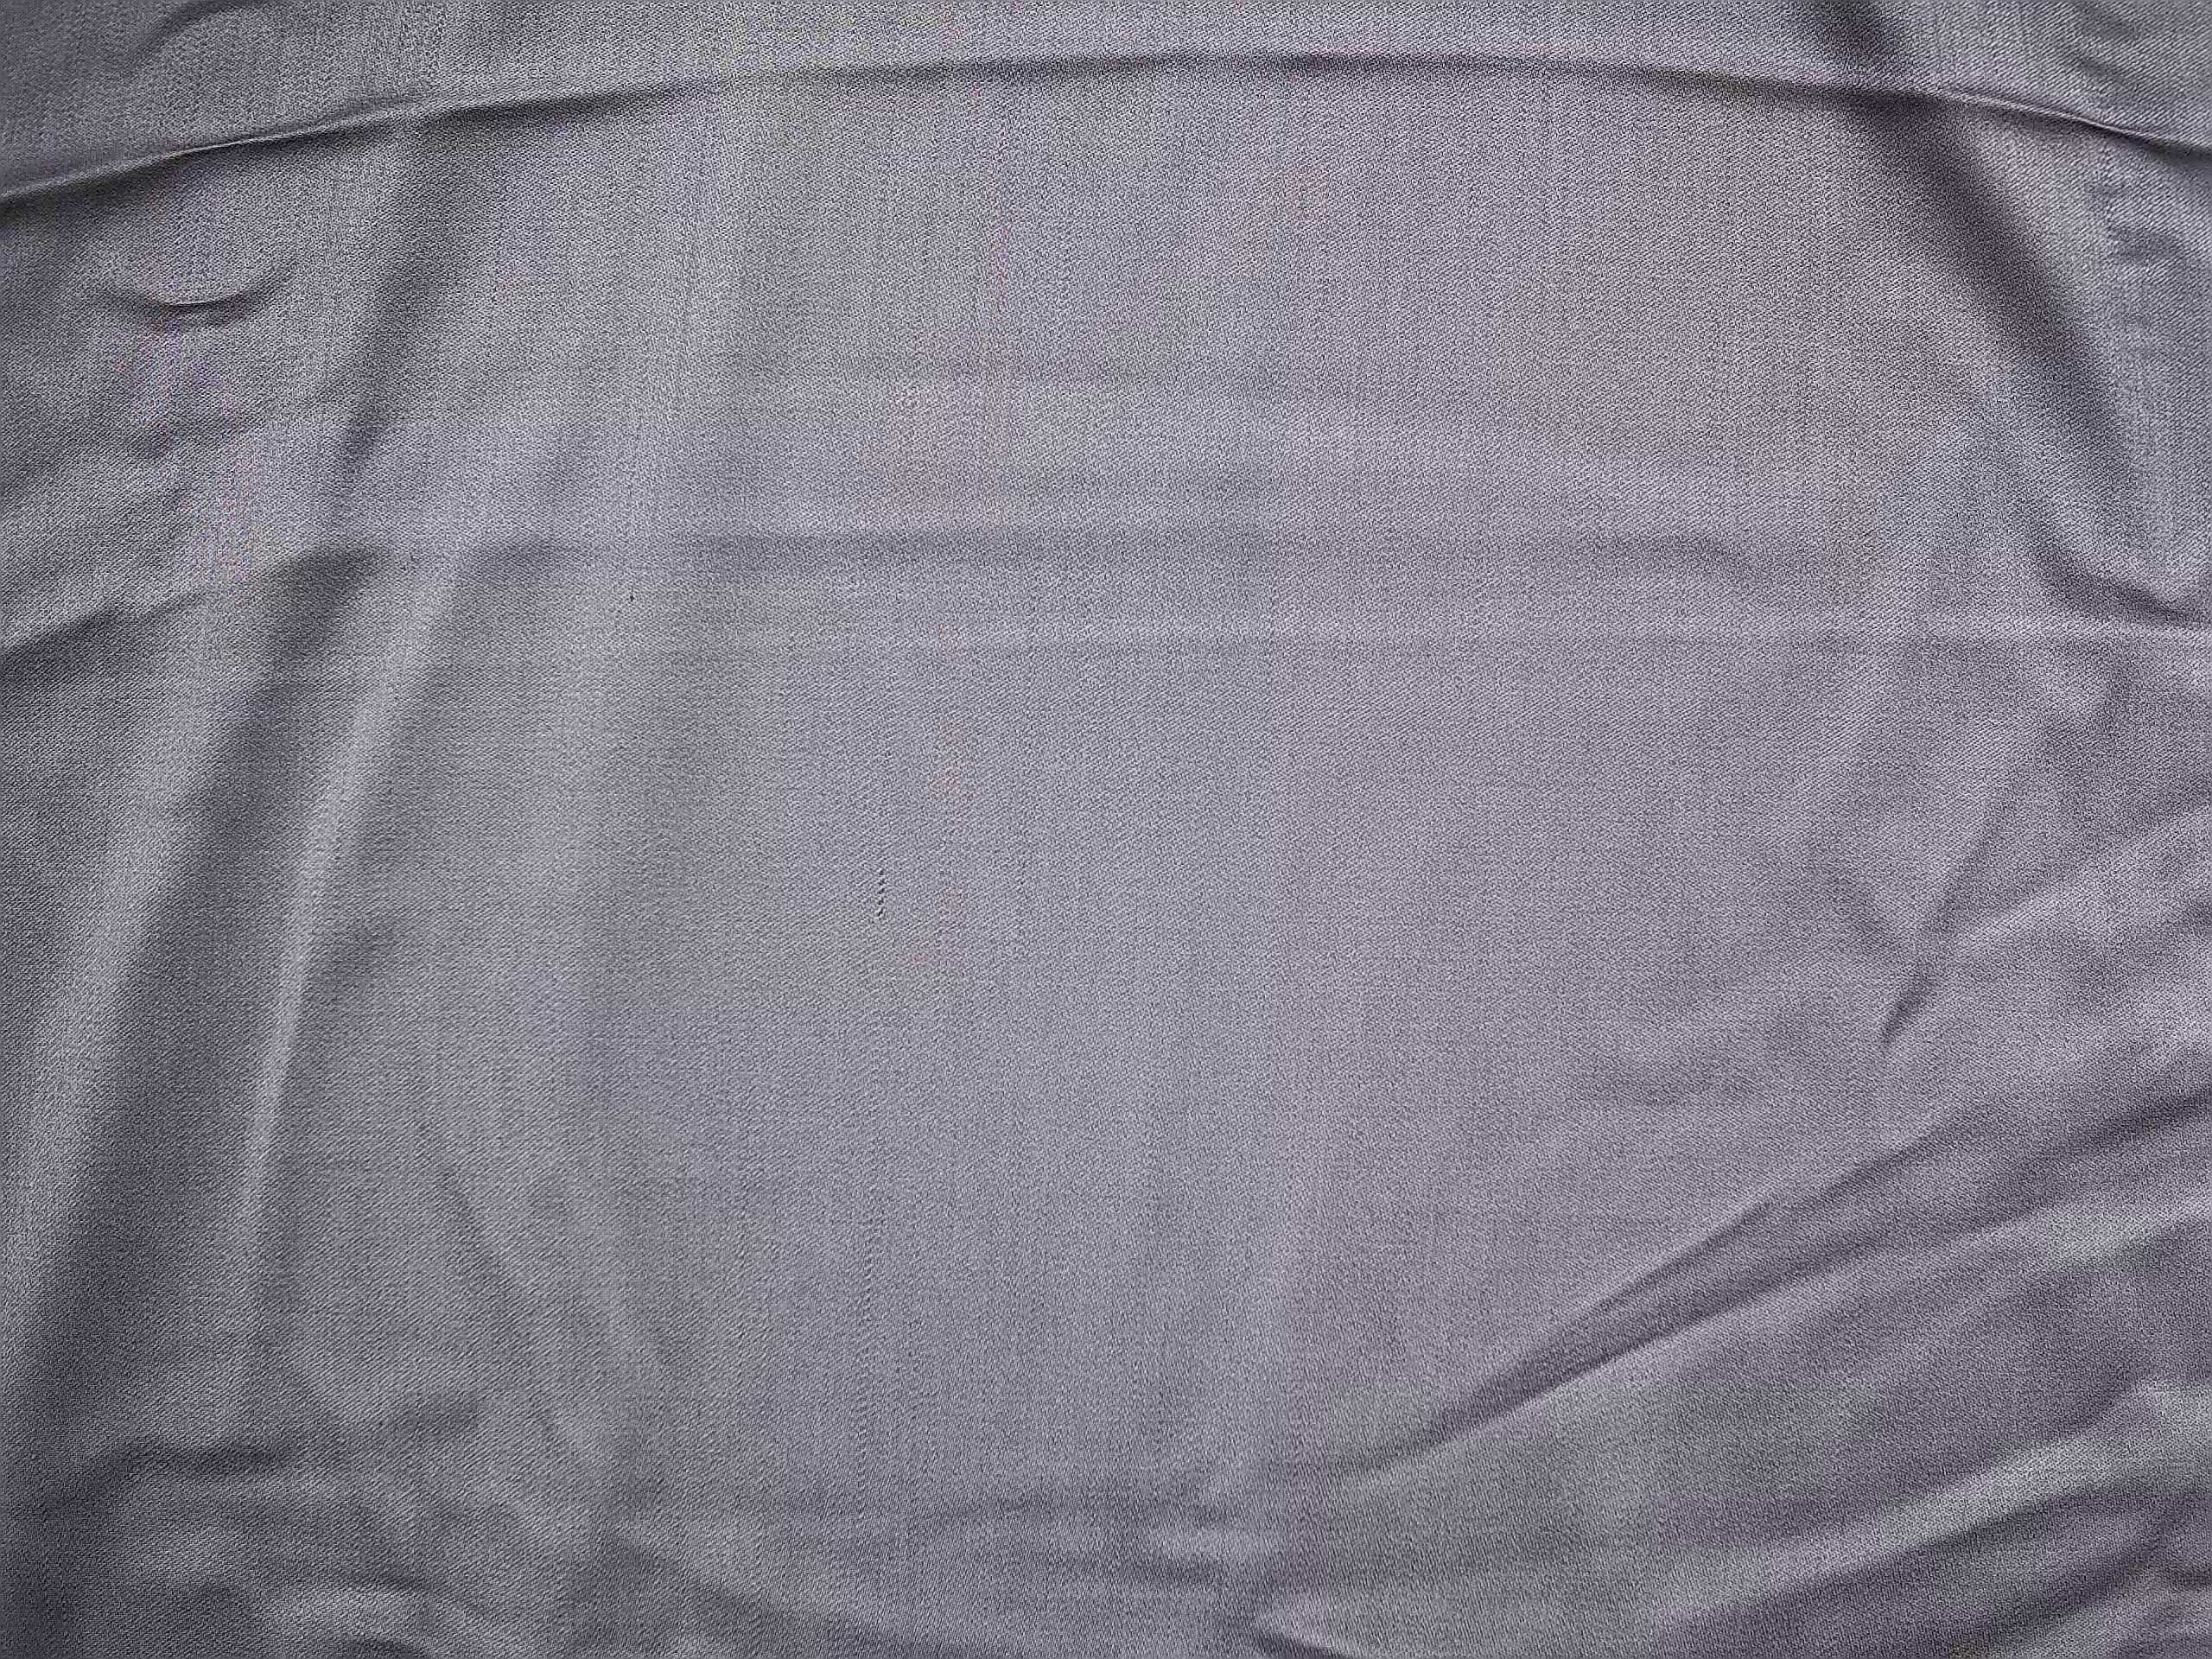jumps: (860, 857, 899, 934)
